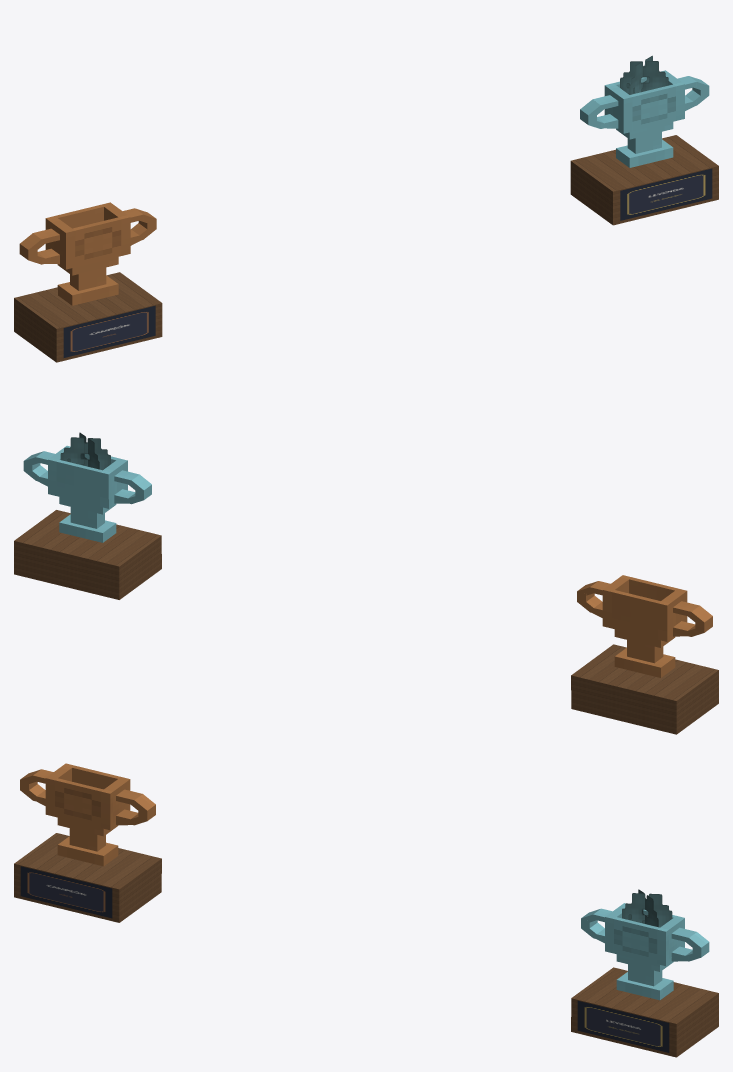
Rendered from Campeon_facil.obj.
The picture shows the model from 3 angles, top to bottom: view 1: azimuth 30°, elevation 25°; view 2: azimuth 150°, elevation 25°; view 3: azimuth 330°, elevation 25°; orthographic projection.
Parts seen in each view (by area): view 1: 35_Peana_Leyenda_del_Slalom, 35_Peana_Campeon_Facil, 35_PeanaTexto_Leyenda_del_Slalom, 35_PeanaTexto_Campeon_Facil, 36_ModeloOriginalSketchfab_Campeon_Facil_cube_1, 36_ModeloOriginalSketchfab_Leyenda_del_Slalom_cube_1, 36_ModeloOriginalSketchfab_Campeon_Facil_cube_3, 36_ModeloOriginalSketchfab_Campeon_Facil_cube_18, 36_ModeloOriginalSketchfab_Leyenda_del_Slalom_cube_3, 36_ModeloOriginalSketchfab_Leyenda_del_Slalom_cube_20, 36_ModeloOriginalSketchfab_Leyenda_del_Slalom_cube_18, 36_ModeloOriginalSketchfab_Campeon_Facil_cube (+2 smaller); view 2: 35_Peana_Leyenda_del_Slalom, 35_Peana_Campeon_Facil, 36_ModeloOriginalSketchfab_Campeon_Facil_cube, 36_ModeloOriginalSketchfab_Leyenda_del_Slalom_cube, 36_ModeloOriginalSketchfab_Campeon_Facil_cube_3, 36_ModeloOriginalSketchfab_Campeon_Facil_cube_18, 36_ModeloOriginalSketchfab_Leyenda_del_Slalom_cube_19, 36_ModeloOriginalSketchfab_Leyenda_del_Slalom_cube_3, 36_ModeloOriginalSketchfab_Leyenda_del_Slalom_cube_18, 36_ModeloOriginalSketchfab_Campeon_Facil_cube_1, 36_ModeloOriginalSketchfab_Campeon_Facil_cube_2, 36_ModeloOriginalSketchfab_Campeon_Facil_cube_17; view 3: 35_Peana_Leyenda_del_Slalom, 35_Peana_Campeon_Facil, 35_PeanaTexto_Campeon_Facil, 35_PeanaTexto_Leyenda_del_Slalom, 36_ModeloOriginalSketchfab_Campeon_Facil_cube_1, 36_ModeloOriginalSketchfab_Leyenda_del_Slalom_cube_1, 36_ModeloOriginalSketchfab_Campeon_Facil_cube_2, 36_ModeloOriginalSketchfab_Leyenda_del_Slalom_cube_19, 36_ModeloOriginalSketchfab_Campeon_Facil_cube_18, 36_ModeloOriginalSketchfab_Leyenda_del_Slalom_cube_2, 36_ModeloOriginalSketchfab_Leyenda_del_Slalom_cube_18, 36_ModeloOriginalSketchfab_Campeon_Facil_cube (+3 smaller).
Part boxes in pixels (bbox=[...]): 35_Peana_Leyenda_del_Slalom: bbox=[570, 135, 718, 225]; 35_Peana_Campeon_Facil: bbox=[14, 272, 162, 362]; 35_PeanaTexto_Leyenda_del_Slalom: bbox=[620, 168, 712, 220]; 35_PeanaTexto_Campeon_Facil: bbox=[63, 305, 155, 357]; 36_ModeloOriginalSketchfab_Campeon_Facil_cube_1: bbox=[72, 217, 121, 267]; 36_ModeloOriginalSketchfab_Leyenda_del_Slalom_cube_1: bbox=[630, 84, 675, 131]; 36_ModeloOriginalSketchfab_Campeon_Facil_cube_3: bbox=[45, 216, 74, 269]; 36_ModeloOriginalSketchfab_Campeon_Facil_cube_18: bbox=[57, 275, 118, 305]; 36_ModeloOriginalSketchfab_Leyenda_del_Slalom_cube_3: bbox=[604, 83, 632, 133]; 36_ModeloOriginalSketchfab_Leyenda_del_Slalom_cube_20: bbox=[620, 61, 668, 94]; 36_ModeloOriginalSketchfab_Leyenda_del_Slalom_cube_18: bbox=[616, 139, 673, 167]; 36_ModeloOriginalSketchfab_Campeon_Facil_cube: bbox=[55, 204, 103, 228]; 35_Peana_Leyenda_del_Slalom: bbox=[14, 510, 161, 599]; 35_Peana_Campeon_Facil: bbox=[571, 644, 718, 734]; 36_ModeloOriginalSketchfab_Campeon_Facil_cube: bbox=[612, 590, 660, 639]; 36_ModeloOriginalSketchfab_Leyenda_del_Slalom_cube: bbox=[56, 459, 102, 506]; 36_ModeloOriginalSketchfab_Campeon_Facil_cube_3: bbox=[658, 588, 687, 641]; 36_ModeloOriginalSketchfab_Campeon_Facil_cube_18: bbox=[614, 648, 675, 677]; 36_ModeloOriginalSketchfab_Leyenda_del_Slalom_cube_19: bbox=[60, 437, 110, 470]; 36_ModeloOriginalSketchfab_Leyenda_del_Slalom_cube_3: bbox=[100, 458, 127, 508]; 36_ModeloOriginalSketchfab_Leyenda_del_Slalom_cube_18: bbox=[59, 514, 116, 542]; 36_ModeloOriginalSketchfab_Campeon_Facil_cube_1: bbox=[629, 577, 677, 600]; 36_ModeloOriginalSketchfab_Campeon_Facil_cube_2: bbox=[602, 575, 631, 628]; 36_ModeloOriginalSketchfab_Campeon_Facil_cube_17: bbox=[627, 640, 663, 663]; 35_Peana_Leyenda_del_Slalom: bbox=[571, 967, 718, 1057]; 35_Peana_Campeon_Facil: bbox=[14, 833, 161, 922]; 35_PeanaTexto_Campeon_Facil: bbox=[20, 866, 112, 918]; 35_PeanaTexto_Leyenda_del_Slalom: bbox=[577, 1001, 669, 1052]; 36_ModeloOriginalSketchfab_Campeon_Facil_cube_1: bbox=[55, 778, 103, 827]; 36_ModeloOriginalSketchfab_Leyenda_del_Slalom_cube_1: bbox=[614, 917, 659, 963]; 36_ModeloOriginalSketchfab_Campeon_Facil_cube_2: bbox=[101, 777, 130, 830]; 36_ModeloOriginalSketchfab_Leyenda_del_Slalom_cube_19: bbox=[622, 893, 672, 927]; 36_ModeloOriginalSketchfab_Campeon_Facil_cube_18: bbox=[57, 836, 118, 866]; 36_ModeloOriginalSketchfab_Leyenda_del_Slalom_cube_2: bbox=[657, 916, 684, 966]; 36_ModeloOriginalSketchfab_Leyenda_del_Slalom_cube_18: bbox=[616, 972, 673, 1000]; 36_ModeloOriginalSketchfab_Campeon_Facil_cube: bbox=[72, 765, 120, 789].
Bounding box in the file's own units: 2.73 × 0.6603 × 0.3064.
